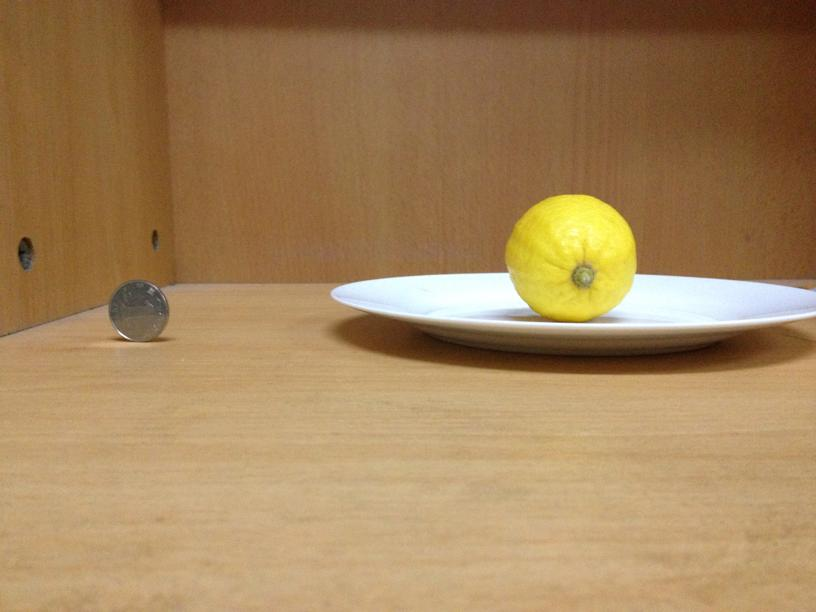coin: (110, 279, 169, 344)
lemon: (502, 195, 636, 319)
